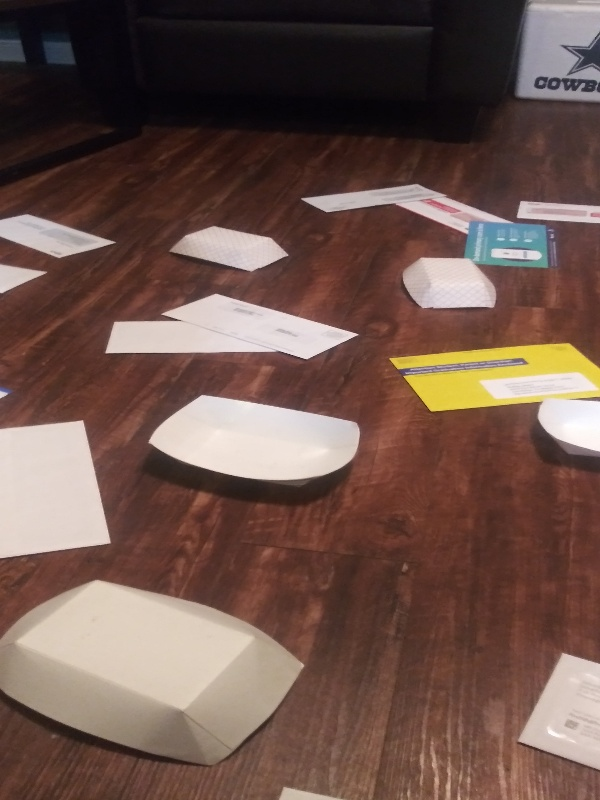plate: (3, 573, 311, 773), (143, 387, 366, 499), (167, 222, 295, 278), (393, 254, 499, 314), (531, 392, 600, 477)
